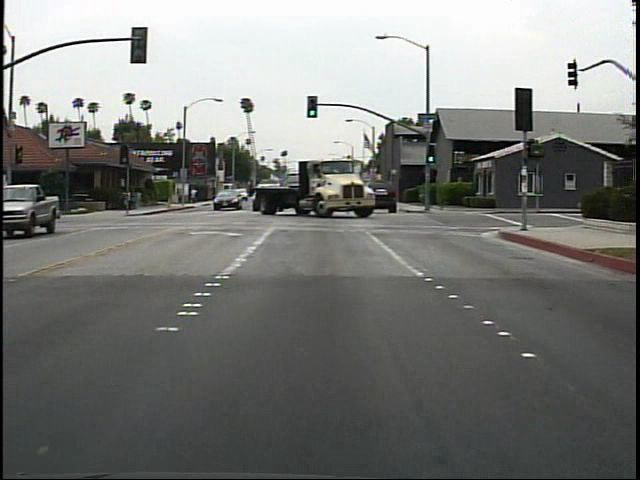person: (190, 184, 202, 206)
